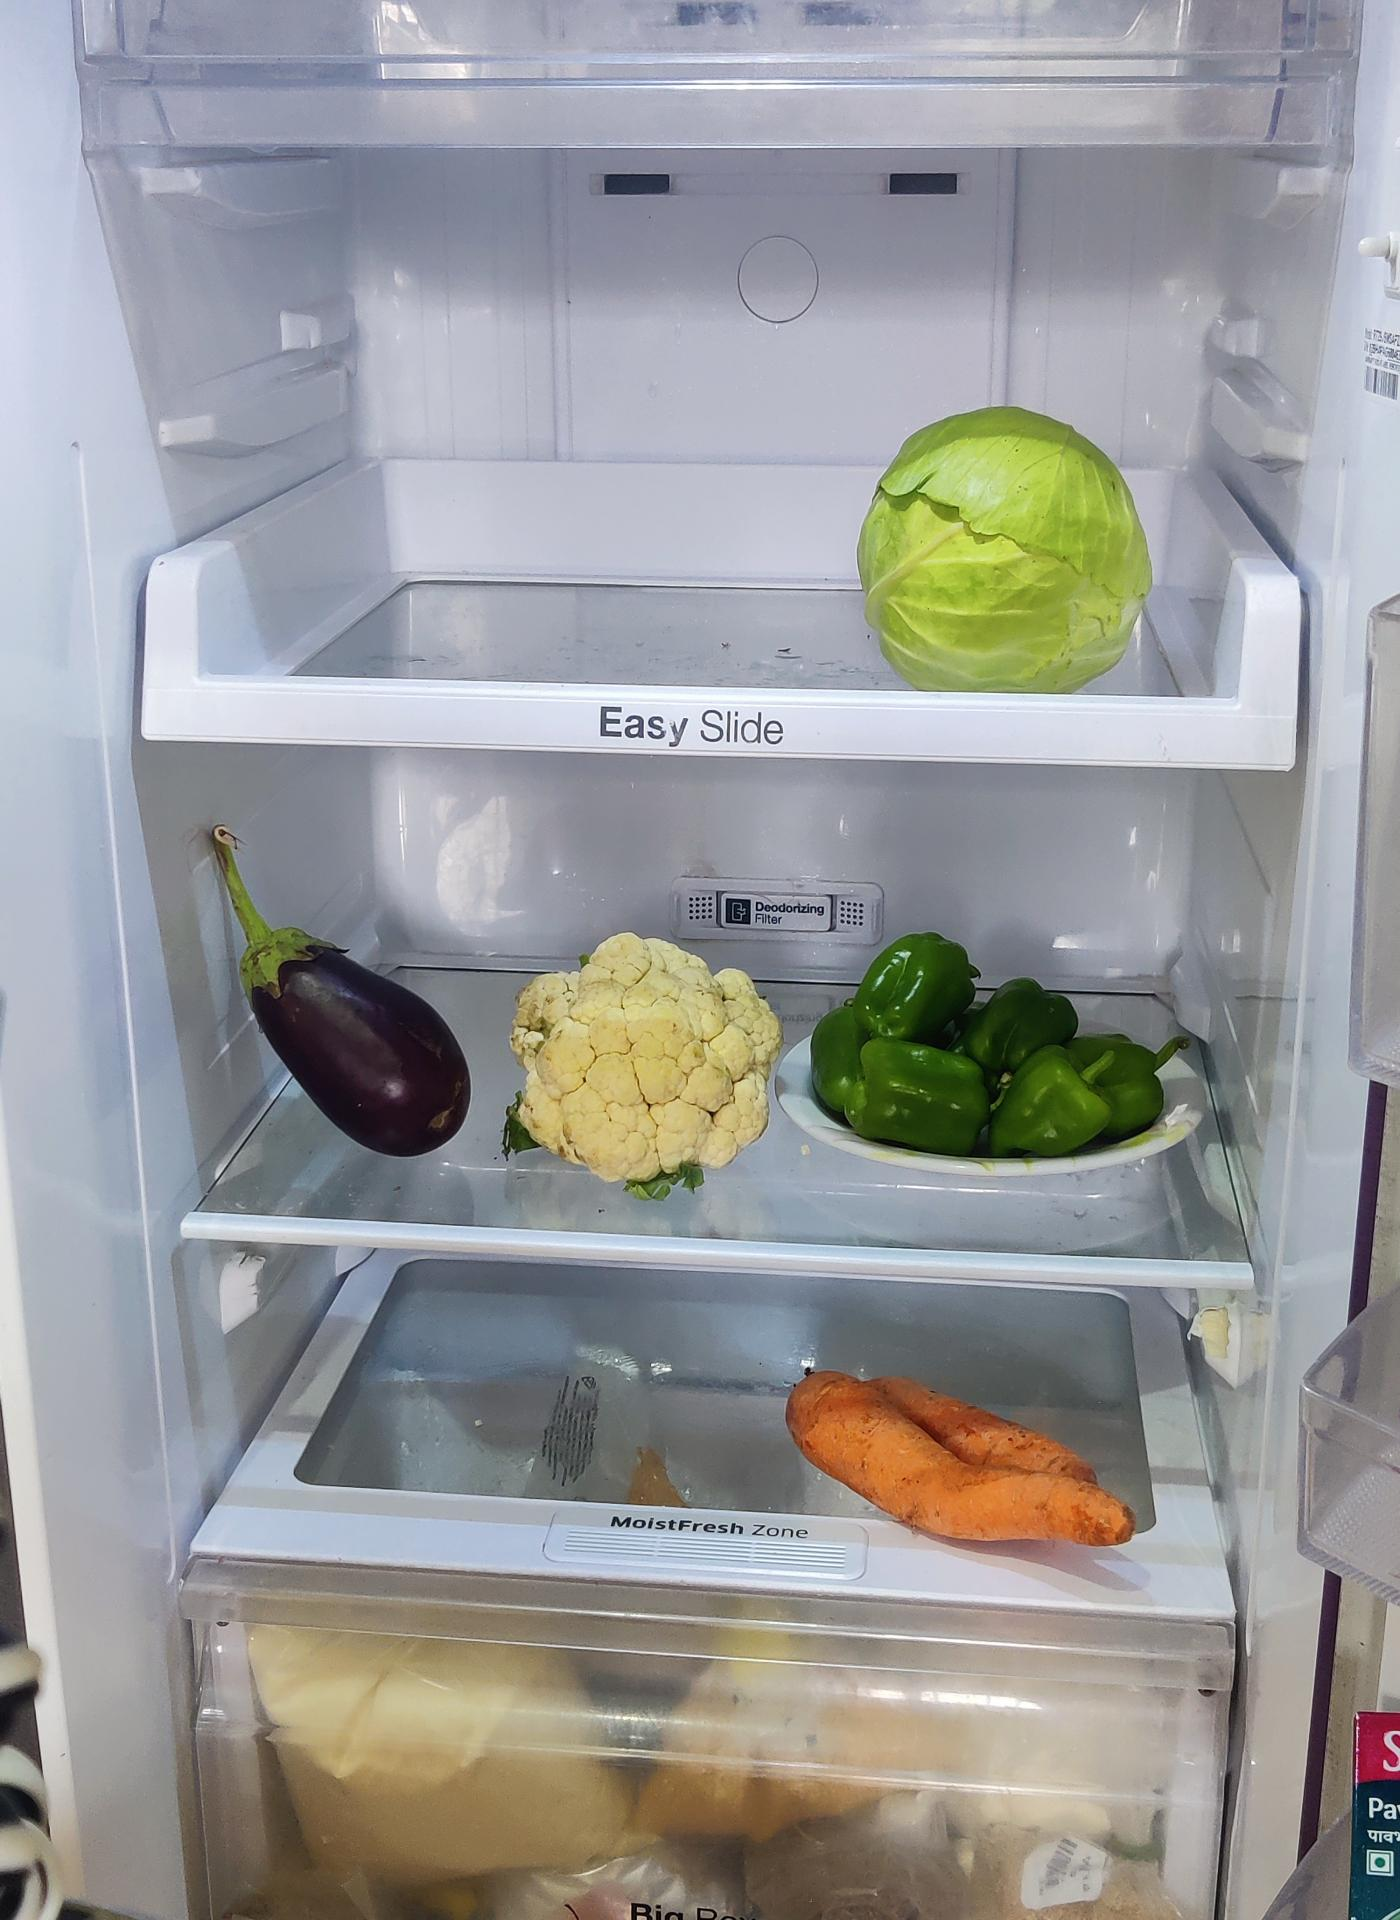brinjal: (221, 856, 471, 1161)
cabbage: (856, 408, 1148, 698)
capsicum: (807, 926, 1188, 1157)
carrots: (786, 1367, 1142, 1556)
cauliflower: (510, 927, 781, 1178)
